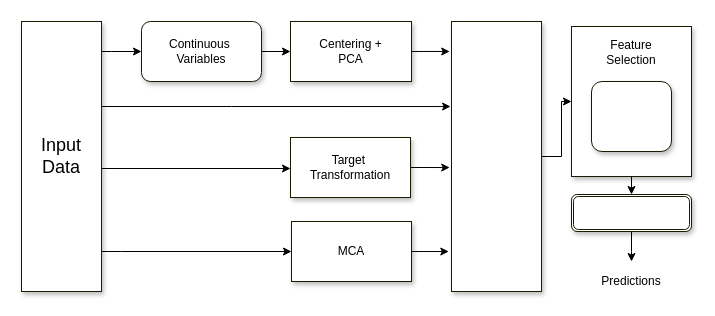
Image size: 715x316. Some labels were removed from this diagram. Here are the shapes that lost their labels. From the top down, the centre of each, then its label:
At (x=632, y=117): "Random Forest".
At (x=497, y=157): "Stacking".
At (x=632, y=214): "Bagged SVM".
